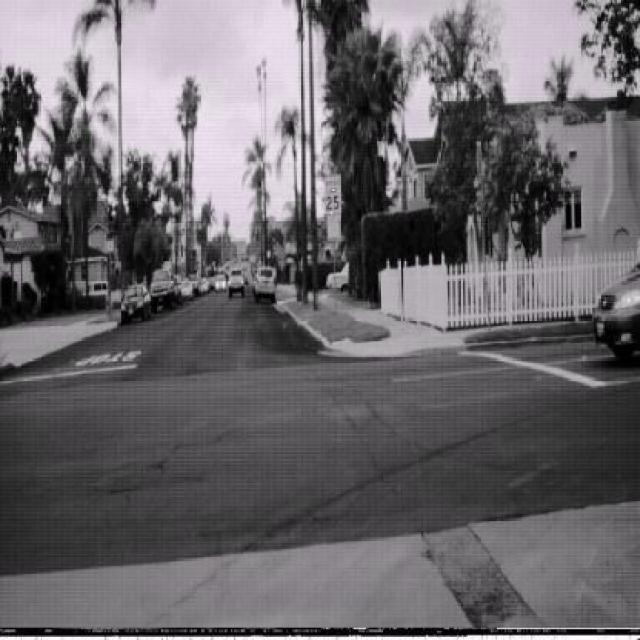speedLimit25: (323, 174, 342, 217)
